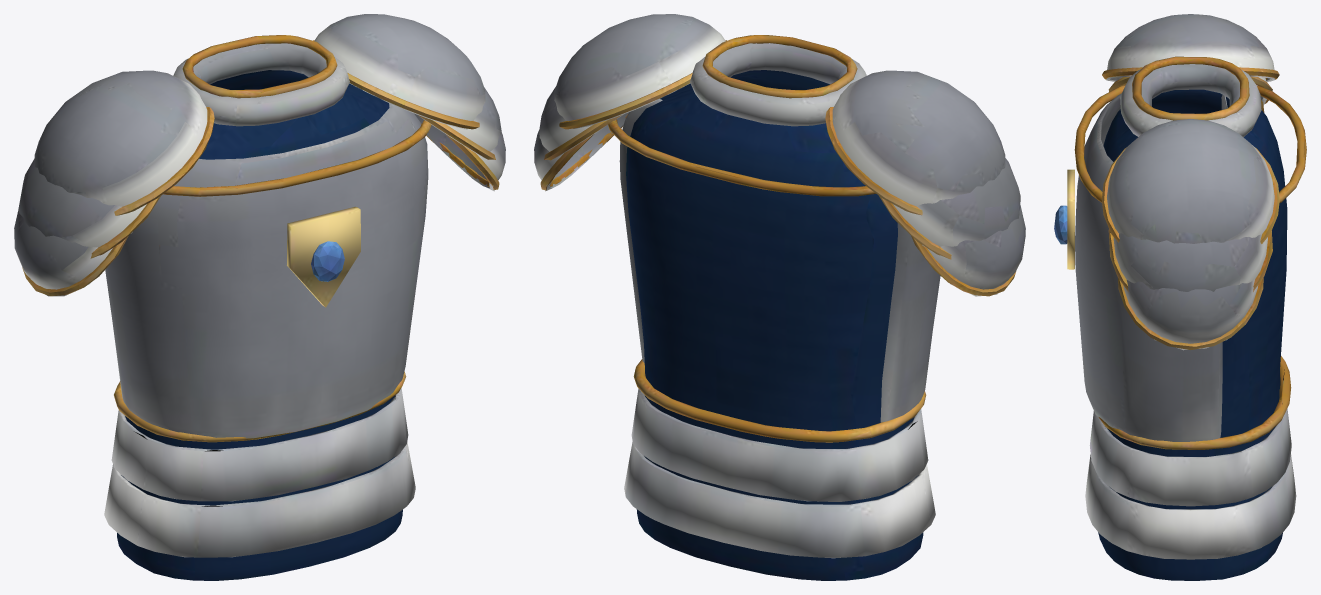
Rendered from warden_plate.glb.
The picture shows the model from 3 angles, left to right: view 1: azimuth 30°, elevation 25°; view 2: azimuth 150°, elevation 25°; view 3: azimuth 270°, elevation 25°; orthographic projection. The views are drawn at different scales.
Visible parts, largest first — view 1: warden_plate; view 2: warden_plate; view 3: warden_plate.
Part boxes in pixels (<box>): warden_plate: <box>14,14,505,580</box>; warden_plate: <box>534,14,1025,580</box>; warden_plate: <box>1054,14,1306,580</box>.
Bounding box in the file's own units: 0.5499 × 0.5366 × 0.2744.
Materials: 1 (1 with a texture image).
